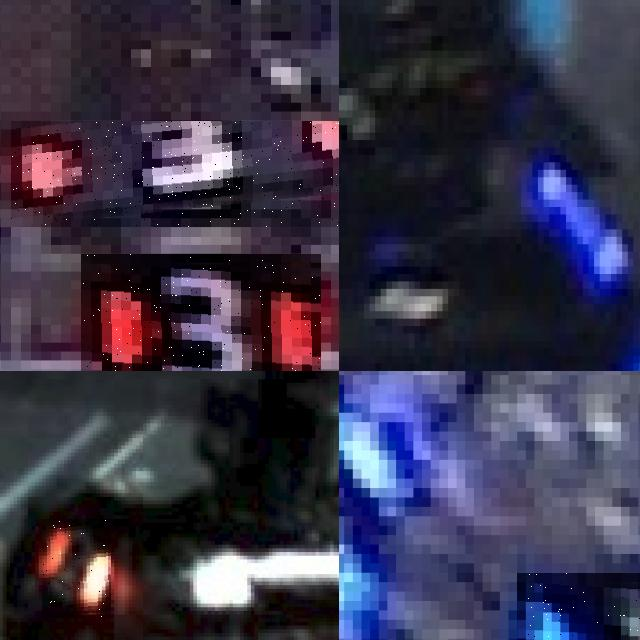B1: (517, 572, 640, 640)
R3: (11, 120, 339, 227), (81, 253, 321, 371)
Rs: (42, 519, 111, 618)
